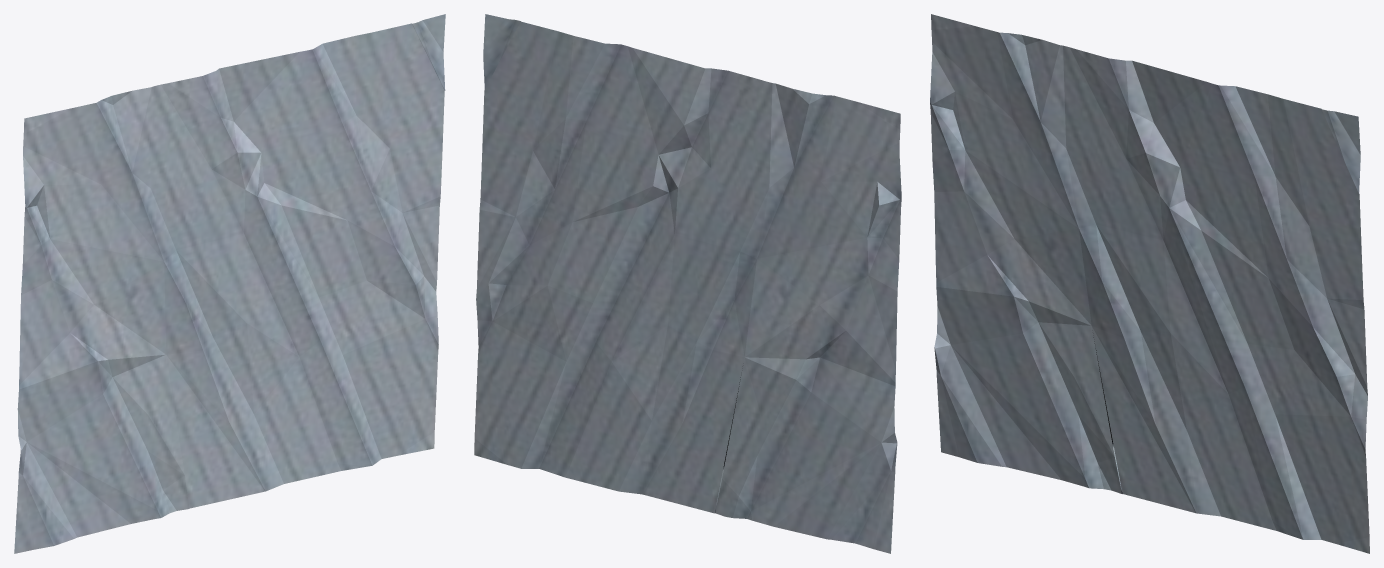
The model's file is Tile_+001_+007_L23_003101.obj.
The picture shows the model from 3 angles, left to right: view 1: azimuth 30°, elevation 25°; view 2: azimuth 150°, elevation 25°; view 3: azimuth 330°, elevation 25°; orthographic projection. The views are drawn at different scales.
Size of the model in its own units: 1.91 by 1.91 by 0.1352.
1 material, 1 textured.
